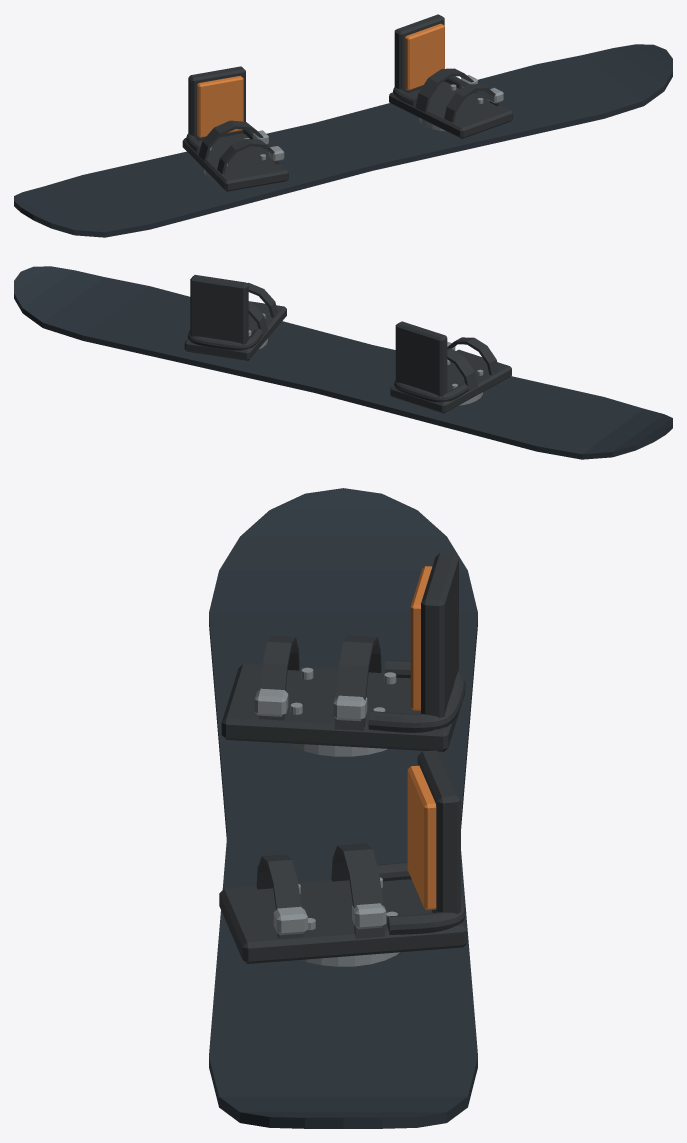
Rendered from full.glb.
3 renders of one model, top to bottom at view 1: azimuth 30°, elevation 25°; view 2: azimuth 150°, elevation 25°; view 3: azimuth 270°, elevation 25°, orthographic. The views are drawn at different scales.
Visible parts, largest first — view 1: Waisted snowboard, Binding base 1, Binding base 0, Heel cushion 0, Heel cushion 1, Highback 0, Highback 1, Open ankle strap 1, Open ankle strap 0, Open toe strap 1, Open toe strap 0, Heel cup 1; view 2: Waisted snowboard, Highback 1, Highback 0, Binding base 0, Binding base 1, Heel cup 1, Heel cup 0, Open toe strap 0, Open ankle strap 0, Open toe strap 1, Open ankle strap 1; view 3: Waisted snowboard, Binding base 1, Binding base 0, Highback 0, Highback 1, Heel cushion 1, Open ankle strap 1, Open ankle strap 0, Heel cup 0, Heel cup 1, Open toe strap 1, Open toe strap 0 (+1 smaller).
Boxes of the visible parts, box(x1,y1,x2,y2) form: Waisted snowboard: box(14, 44, 672, 237); Binding base 1: box(389, 81, 512, 138); Binding base 0: box(182, 133, 288, 191); Heel cushion 0: box(197, 76, 243, 137); Heel cushion 1: box(405, 23, 444, 90); Highback 0: box(188, 66, 245, 141); Highback 1: box(394, 14, 444, 93); Open ankle strap 1: box(415, 68, 476, 112); Open ankle strap 0: box(198, 120, 266, 161); Open toe strap 1: box(444, 84, 499, 122); Open toe strap 0: box(217, 138, 279, 174); Heel cup 1: box(393, 76, 462, 106); Waisted snowboard: box(14, 266, 672, 459); Highback 1: box(190, 275, 248, 344); Highback 0: box(395, 321, 447, 396); Binding base 0: box(390, 349, 511, 413); Binding base 1: box(184, 301, 286, 360); Heel cup 1: box(187, 328, 263, 350); Heel cup 0: box(394, 380, 468, 402); Open toe strap 0: box(447, 337, 498, 375); Open ankle strap 0: box(447, 348, 477, 391); Open toe strap 1: box(247, 282, 278, 317); Open ankle strap 1: box(248, 301, 267, 335); Waisted snowboard: box(209, 488, 477, 1128); Binding base 1: box(219, 879, 467, 963); Binding base 0: box(221, 664, 465, 751); Highback 0: box(421, 553, 458, 717); Highback 1: box(417, 750, 460, 913); Heel cushion 1: box(407, 765, 436, 910); Open ankle strap 1: box(331, 843, 384, 938); Open ankle strap 0: box(334, 635, 381, 730); Heel cup 0: box(368, 660, 464, 732); Heel cup 1: box(377, 862, 465, 934); Open toe strap 1: box(256, 854, 303, 938); Open toe strap 0: box(259, 636, 299, 720).
Size of the model in its own units: 1.5 by 0.188 by 0.2709.
